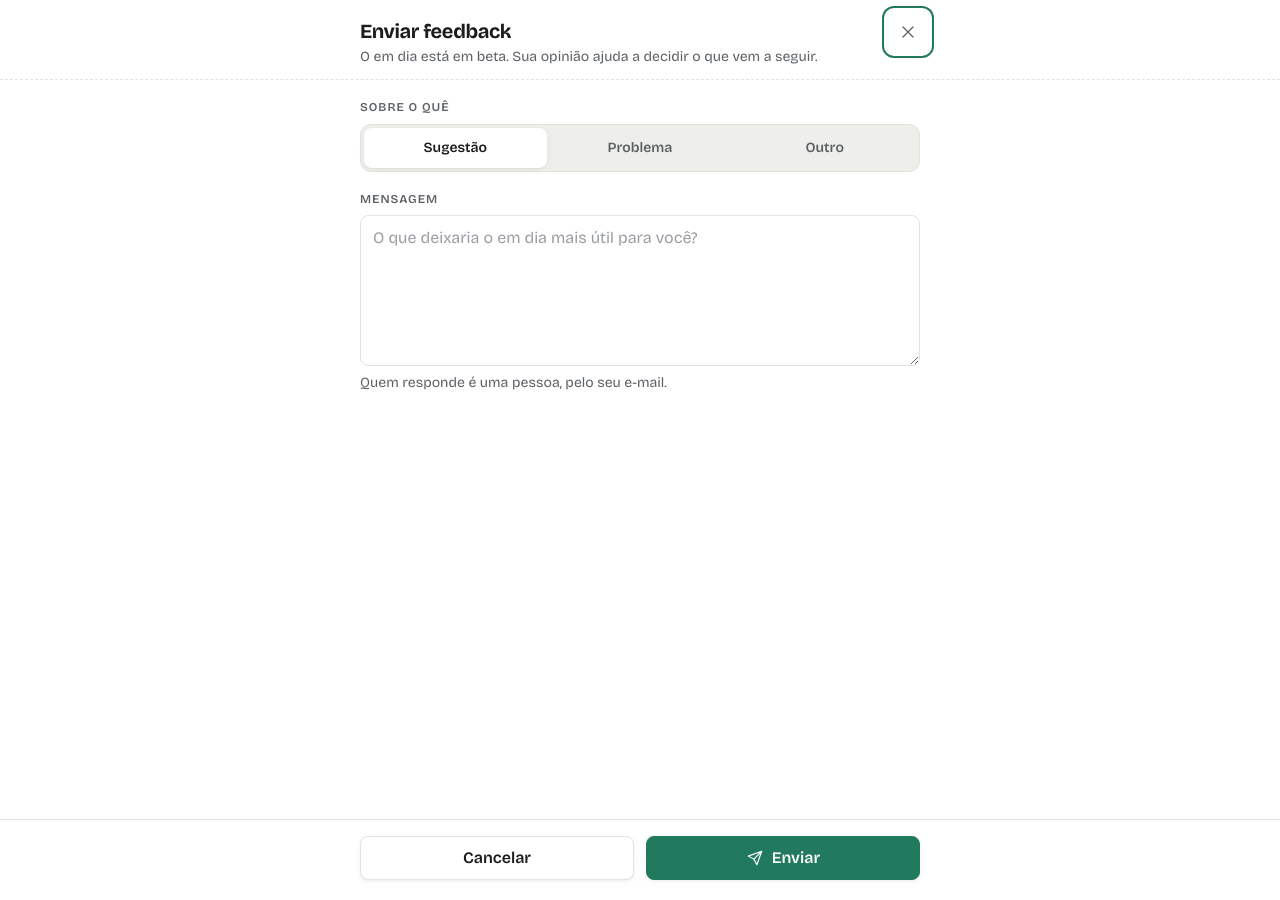
FeedbackSheet › keeps the draft and shows the error when sending fails
Type "A tela de pagamentos travou" into the text box labelled "Mensagem" at {"x": 640, "y": 291}, box [360,215,920,366]
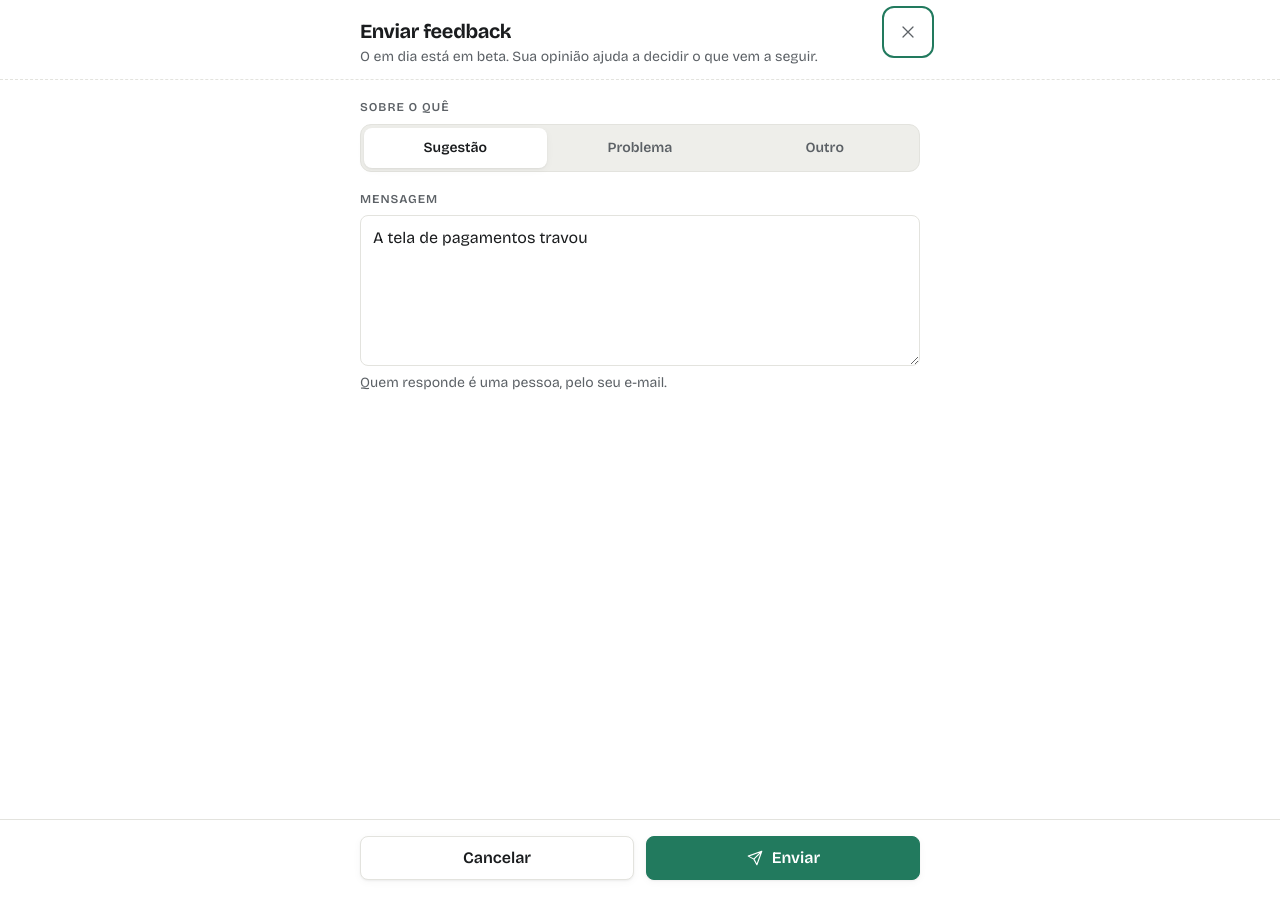
Submit the form with id "feedback-form", box [360,100,920,392]
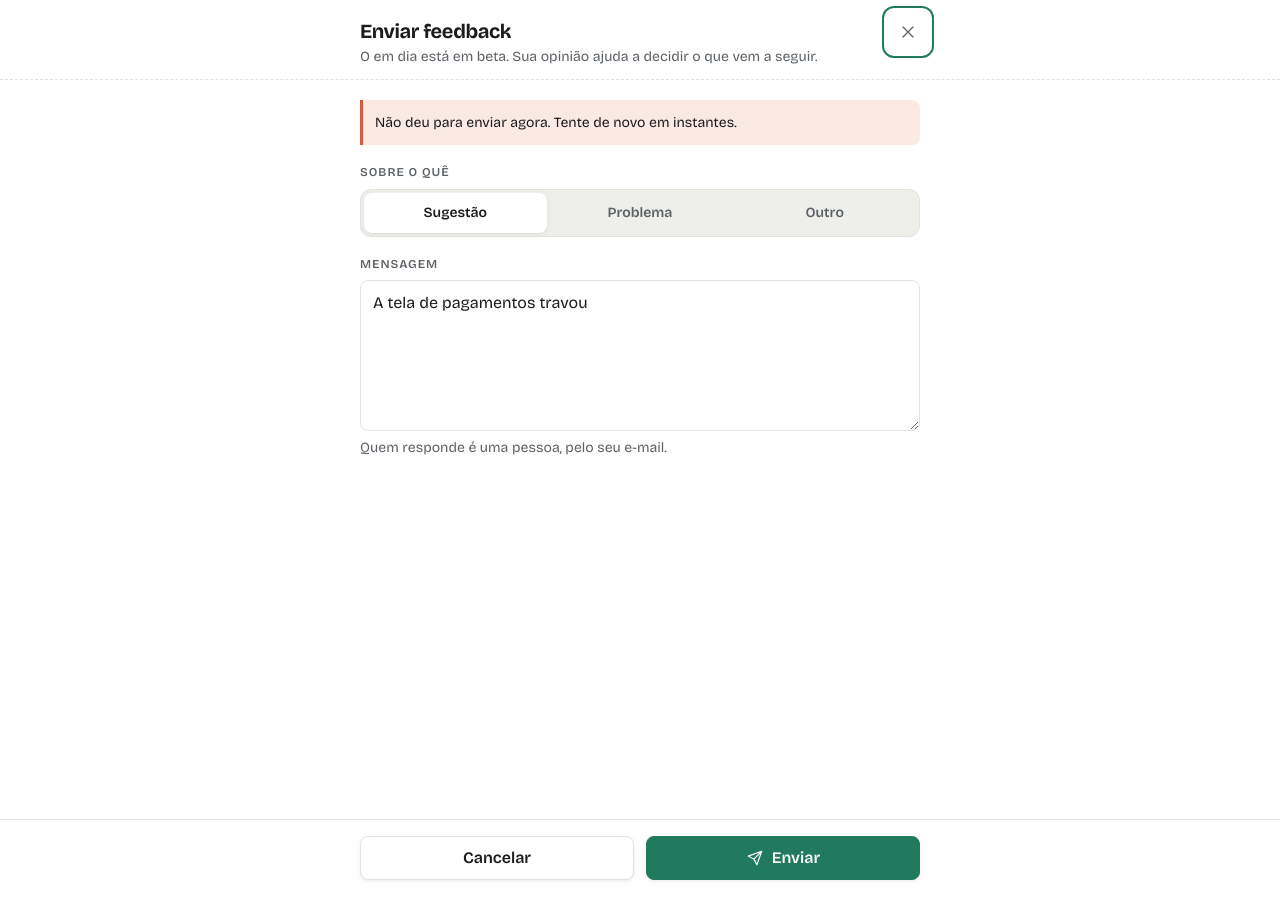
Now the text "Não deu para enviar agora" is shown, box [375,114,737,131]
